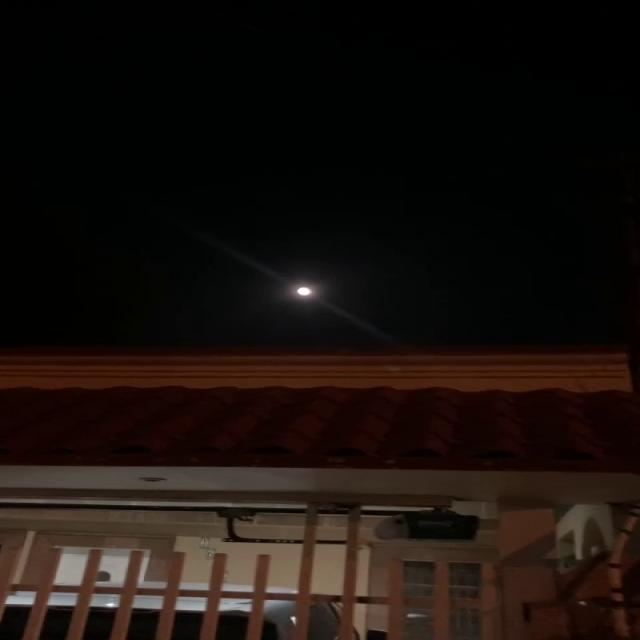moon: (290, 277, 320, 304)
